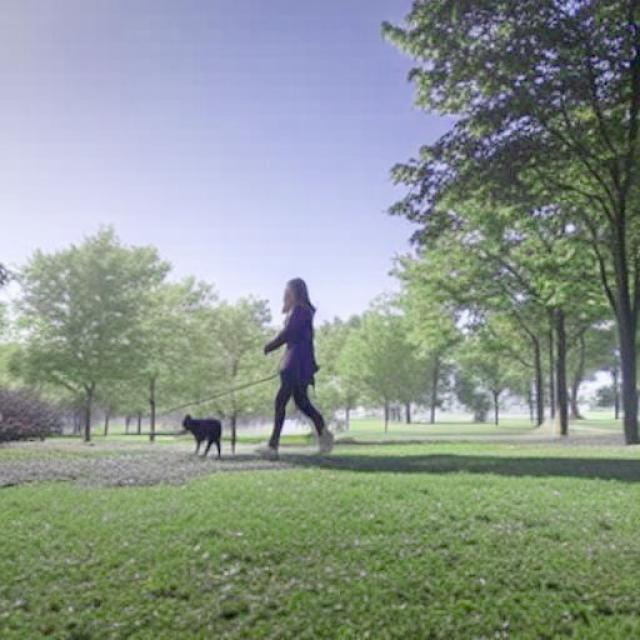Unleashed_Dog: (177, 358, 315, 460)
